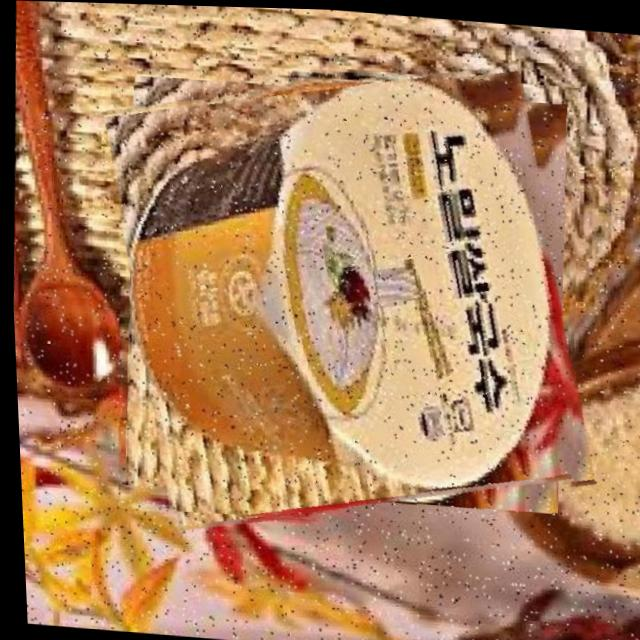Miscellaneous: (98, 50, 596, 542)
